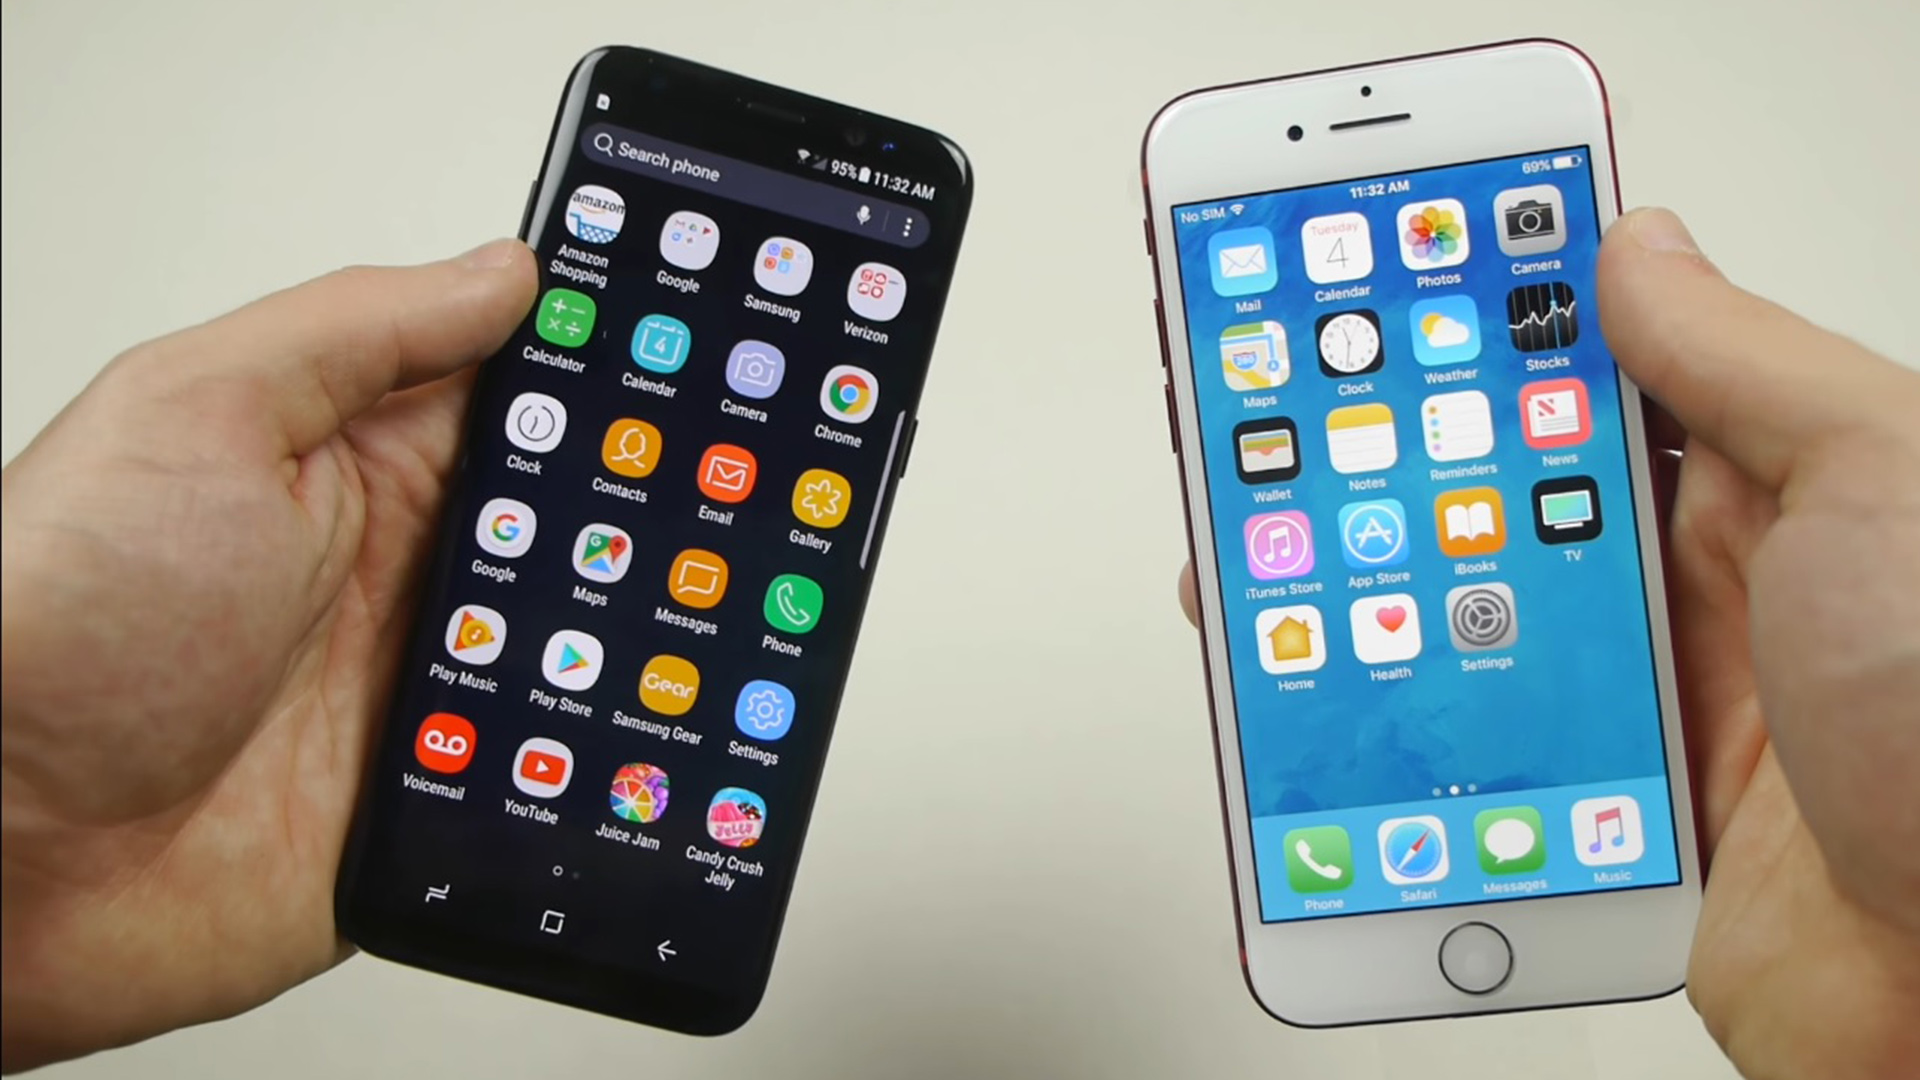smartphone: (334, 44, 975, 1036), (1138, 36, 1706, 1029)
